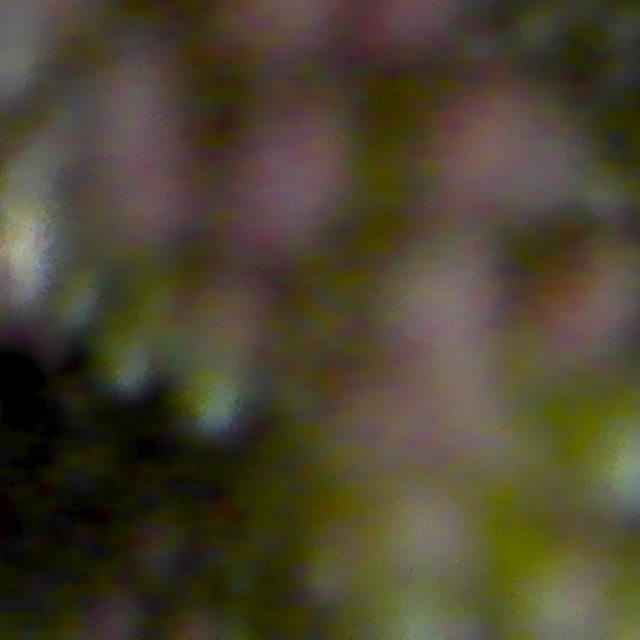SeaGrape: (221, 103, 365, 281), (510, 214, 640, 358)
